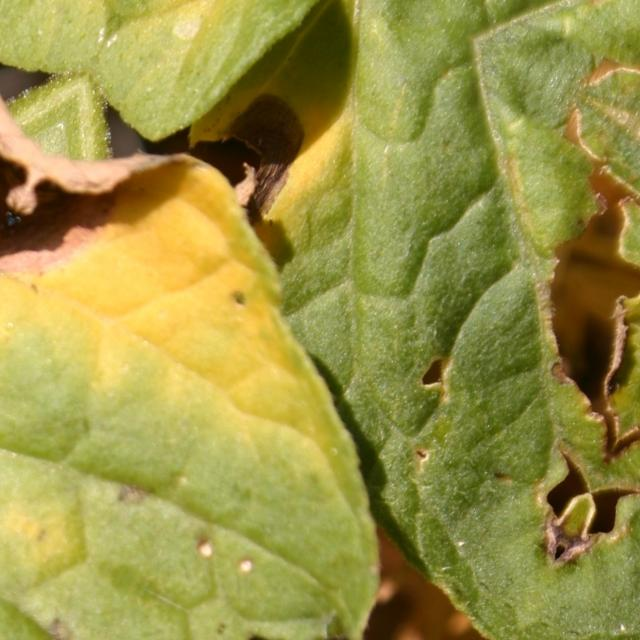Tomato Early blight leaf: (0, 195, 550, 640)
